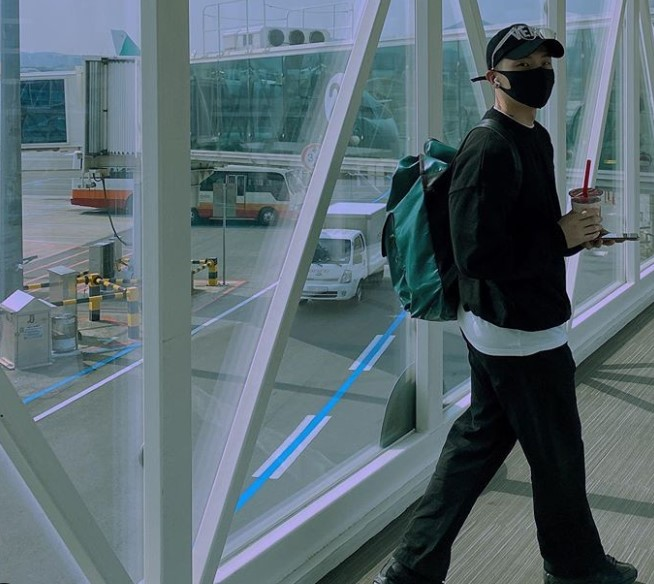face_with_mask: (483, 22, 562, 111)
